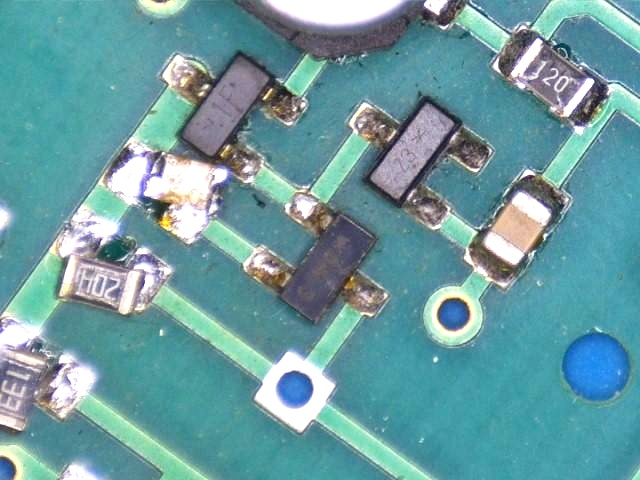pcb_defect: (96, 134, 230, 246), (48, 203, 174, 318), (0, 310, 96, 433)
